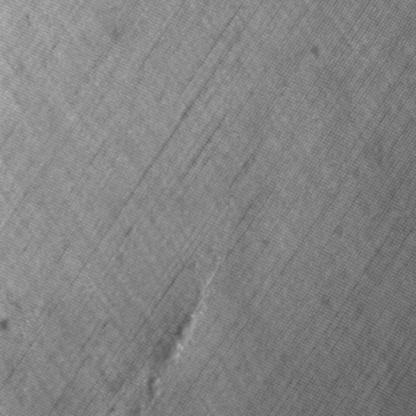thread error: (138, 273, 217, 413)
